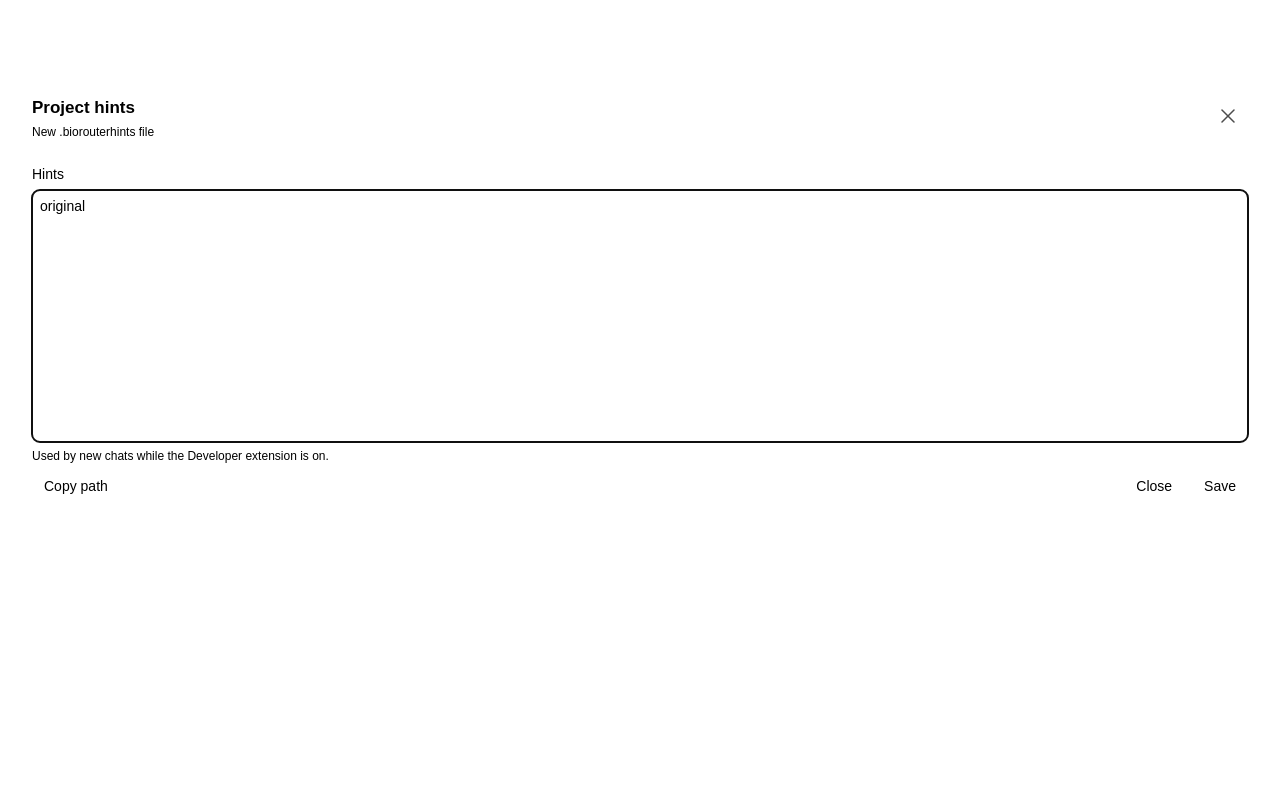
saving project hints › reports the actual file write result: false
This screenshot has width=1280, height=800.
Replace the text in the text box showing "original" with "updated" at (640, 316), box x1=32 y1=190 x2=1248 y2=442
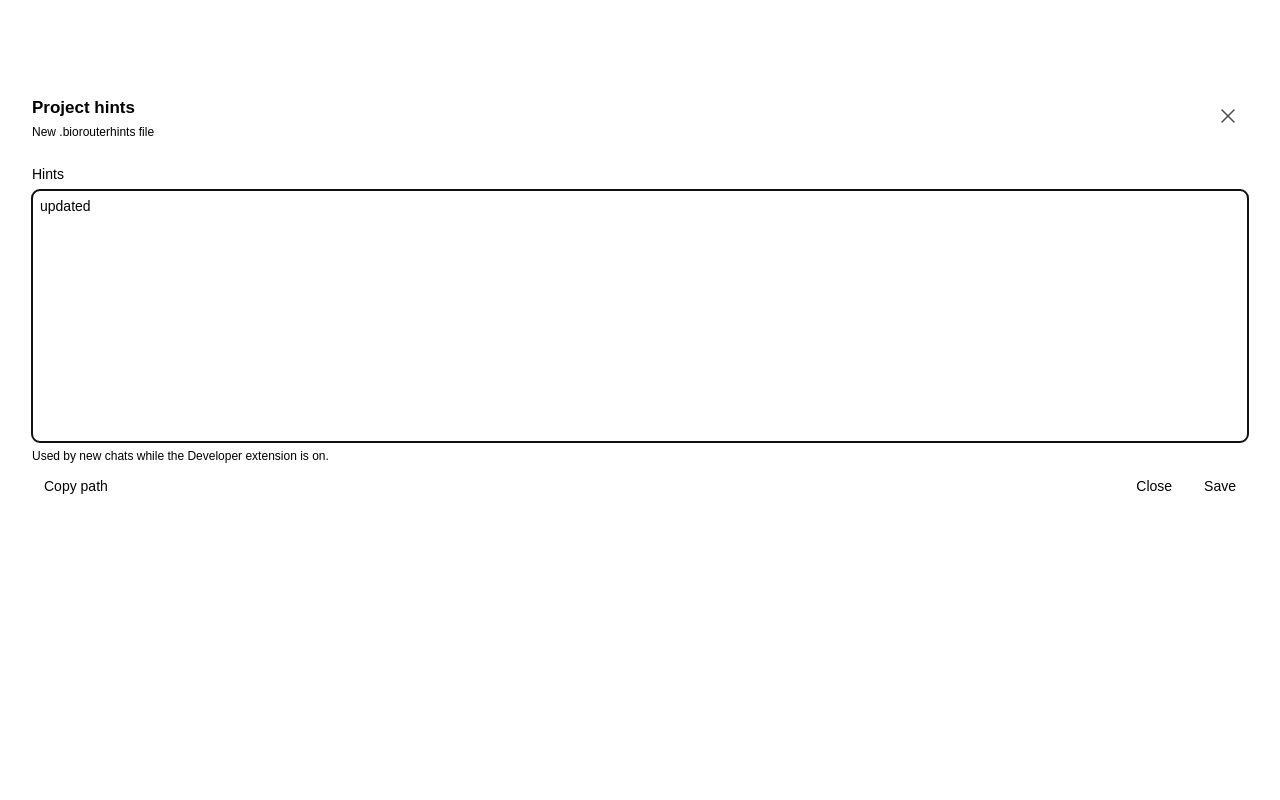
Click the button "Save".
click(1220, 486)  # box x1=1192 y1=476 x2=1248 y2=496
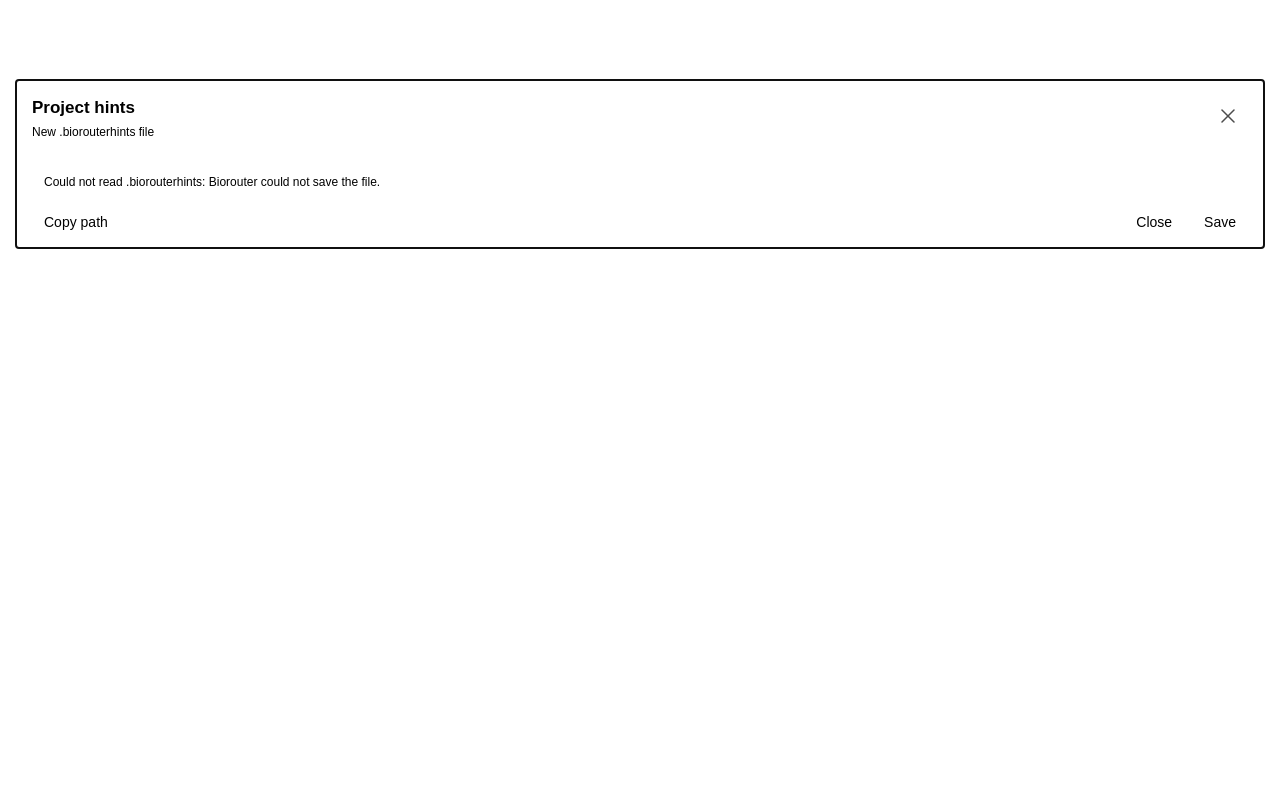
Expected: the dialog "Project hints" does not show "Editing your .biorouterhints file", x1=16 y1=80 x2=1264 y2=248
Expected: the message shows "Biorouter could not save the file.", x1=44 y1=175 x2=380 y2=189
